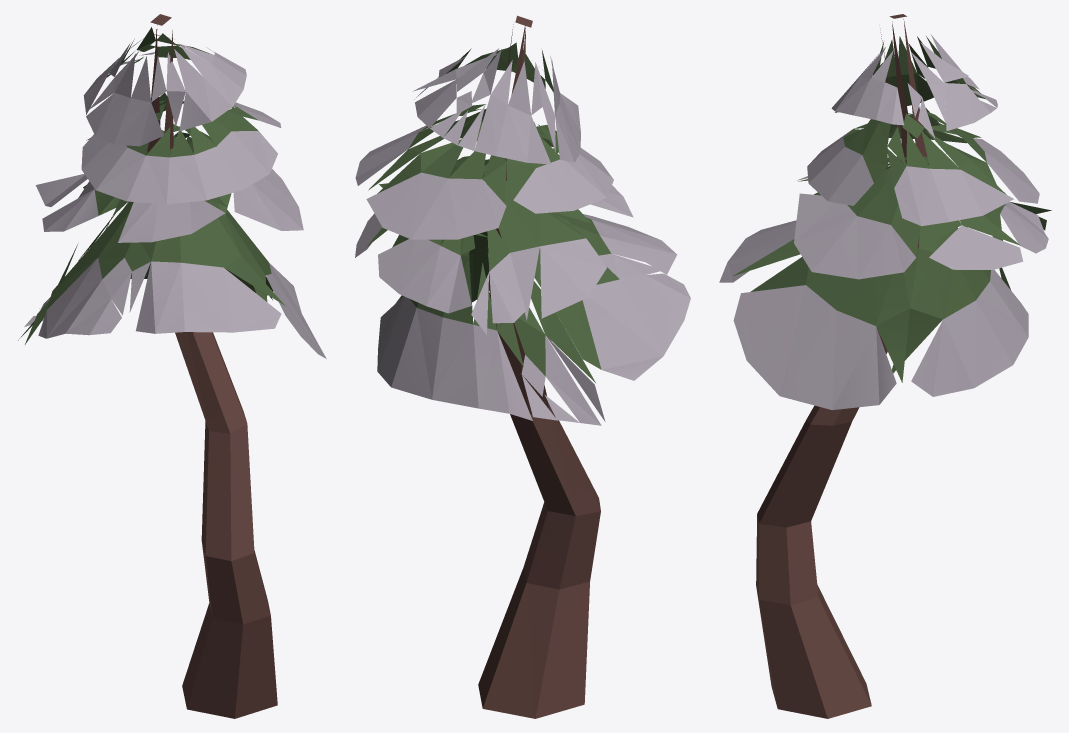
File: pine.glb
The picture shows the model from 3 angles, left to right: view 1: azimuth 30°, elevation 25°; view 2: azimuth 150°, elevation 25°; view 3: azimuth 270°, elevation 25°; orthographic projection. The views are drawn at different scales.
Visible parts, largest first — view 1: PineTree_Snow_4; view 2: PineTree_Snow_4; view 3: PineTree_Snow_4.
Part boxes in pixels (<box>): PineTree_Snow_4: <box>18,14,326,718</box>; PineTree_Snow_4: <box>355,15,690,718</box>; PineTree_Snow_4: <box>719,14,1051,718</box>.
Size of the model in its own units: 1.25 by 3.11 by 1.42.
